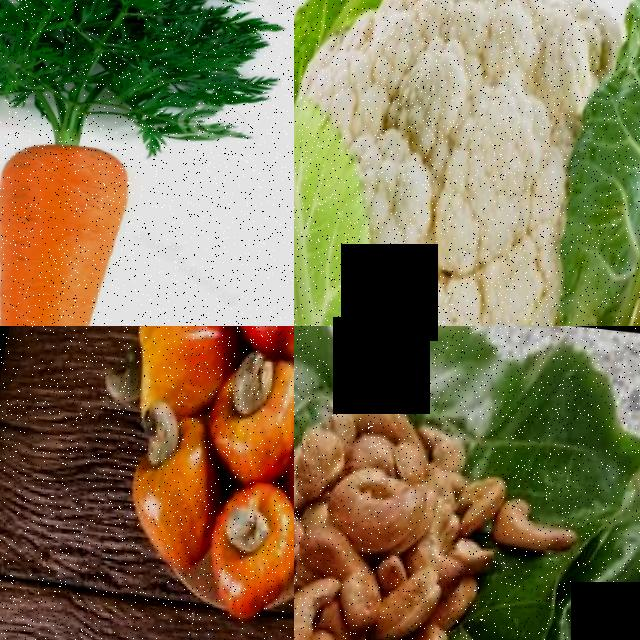carrot: (0, 99, 209, 326)
cashew: (323, 471, 443, 554), (489, 494, 574, 568), (208, 338, 284, 419), (125, 396, 190, 473), (294, 415, 347, 503), (457, 464, 514, 538), (221, 494, 275, 559), (294, 554, 334, 640), (351, 384, 407, 445), (101, 344, 147, 410)
cauliflower: (294, 0, 640, 326)
